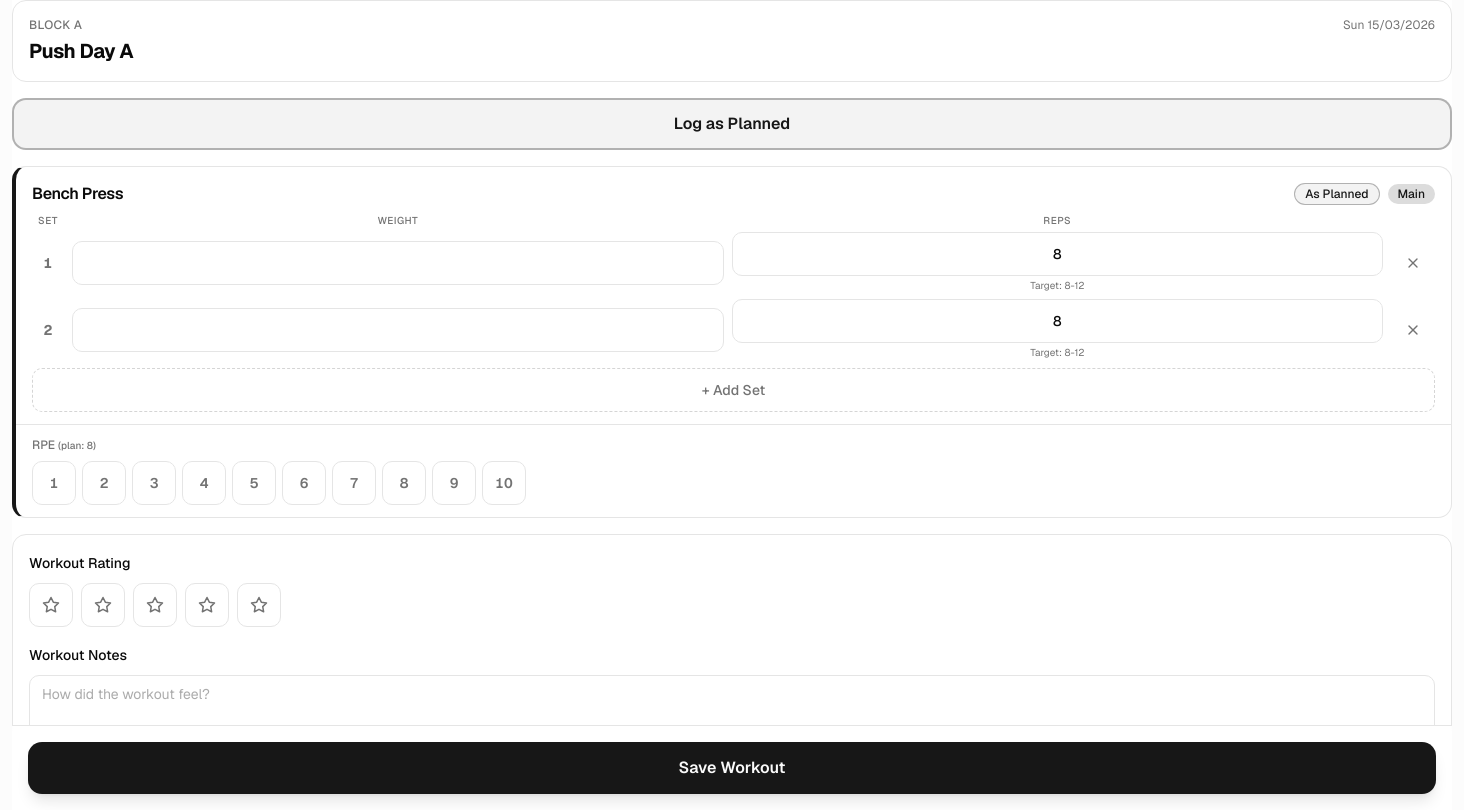
Per-exercise "As Planned" button — resistance › AC27: null weight stays empty, range reps use lower bound
// Modify something first
Clear the field with test id "reps-input-0-0" at [1057, 254], box [732,232,1383,276]
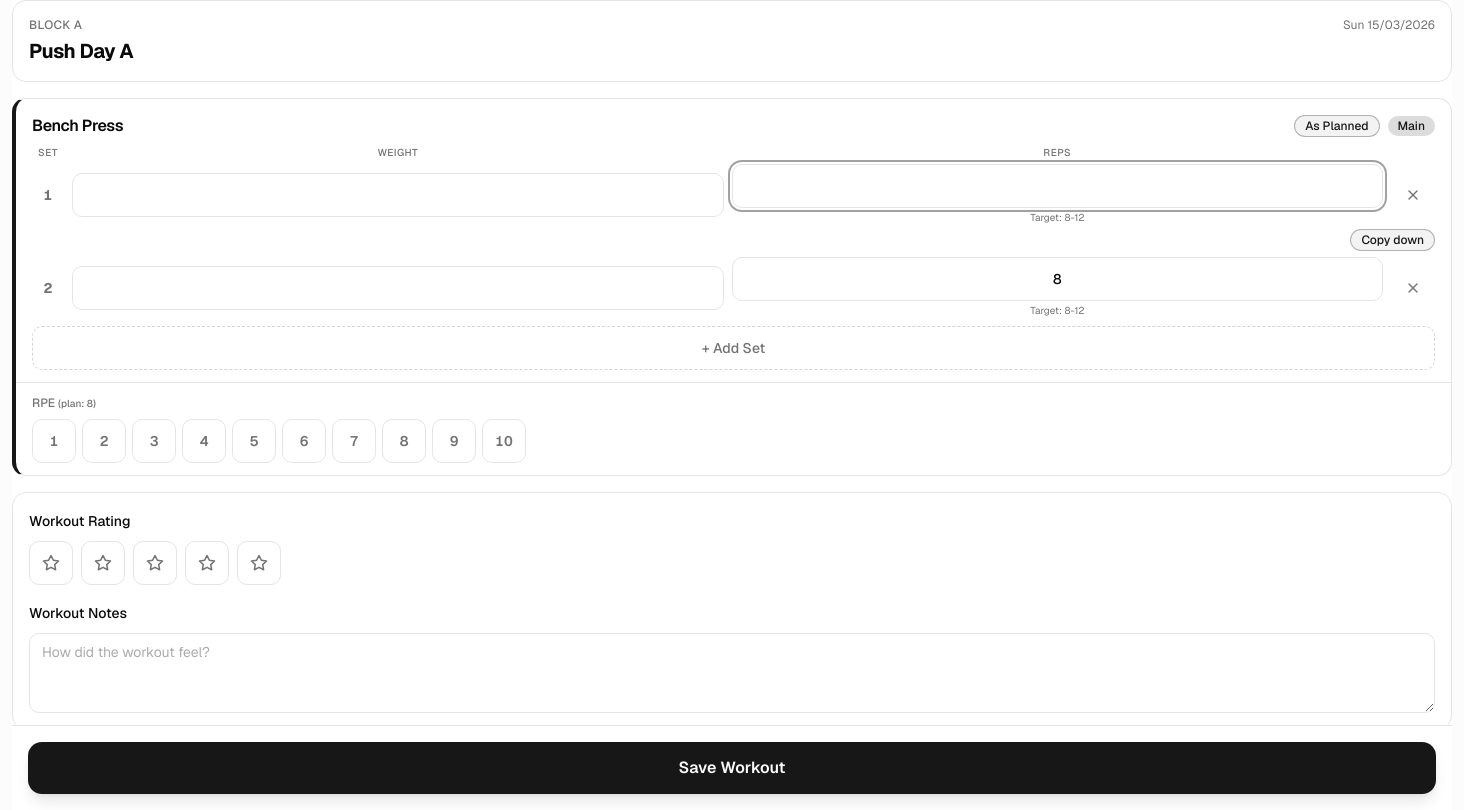
Type "15" into the field with test id "reps-input-0-0" at [1057, 186], box [732,164,1383,208]
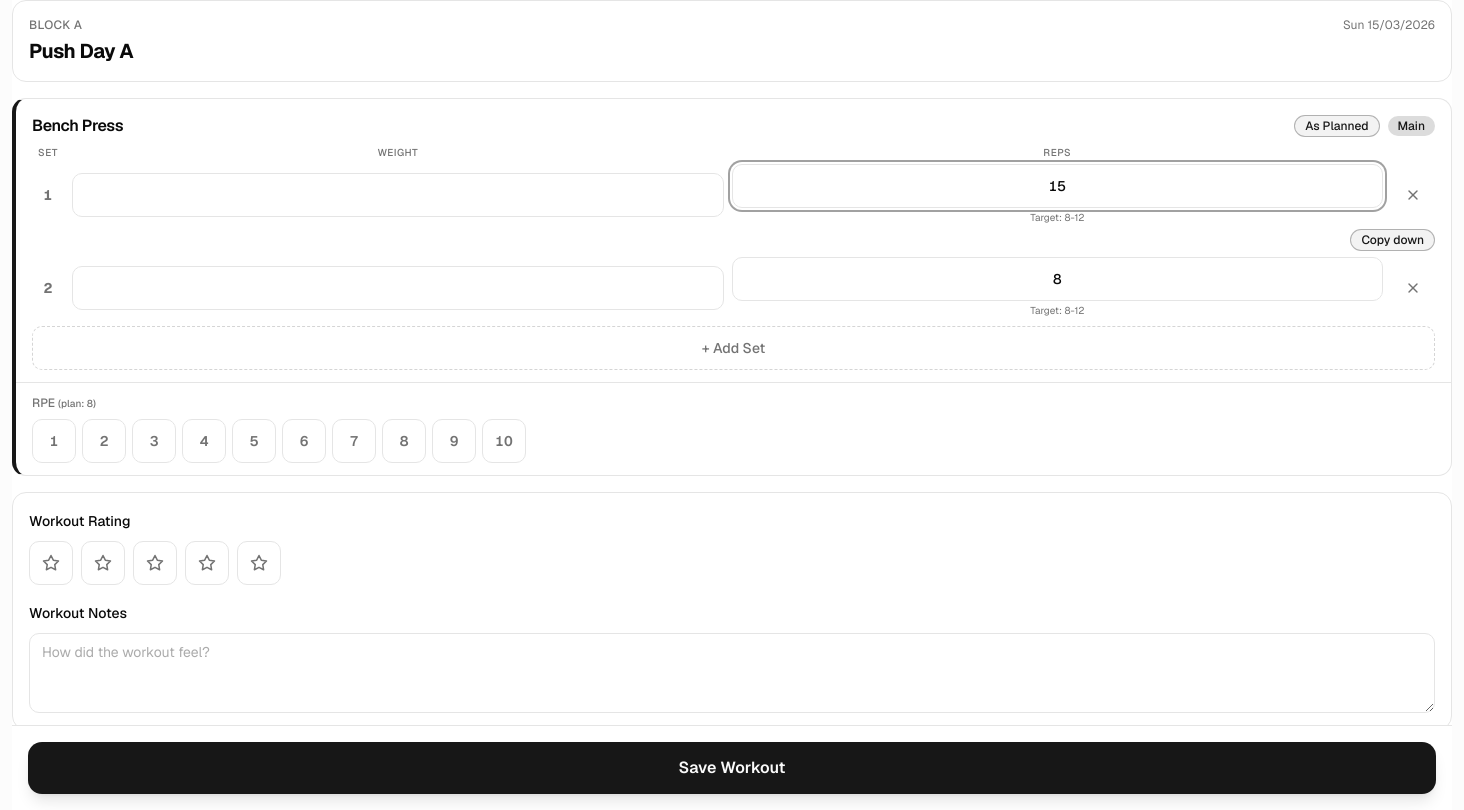
// Tap "As Planned"
Click the button with test id "as-planned-btn-0" at [1337, 126], box [1294,115,1380,137]
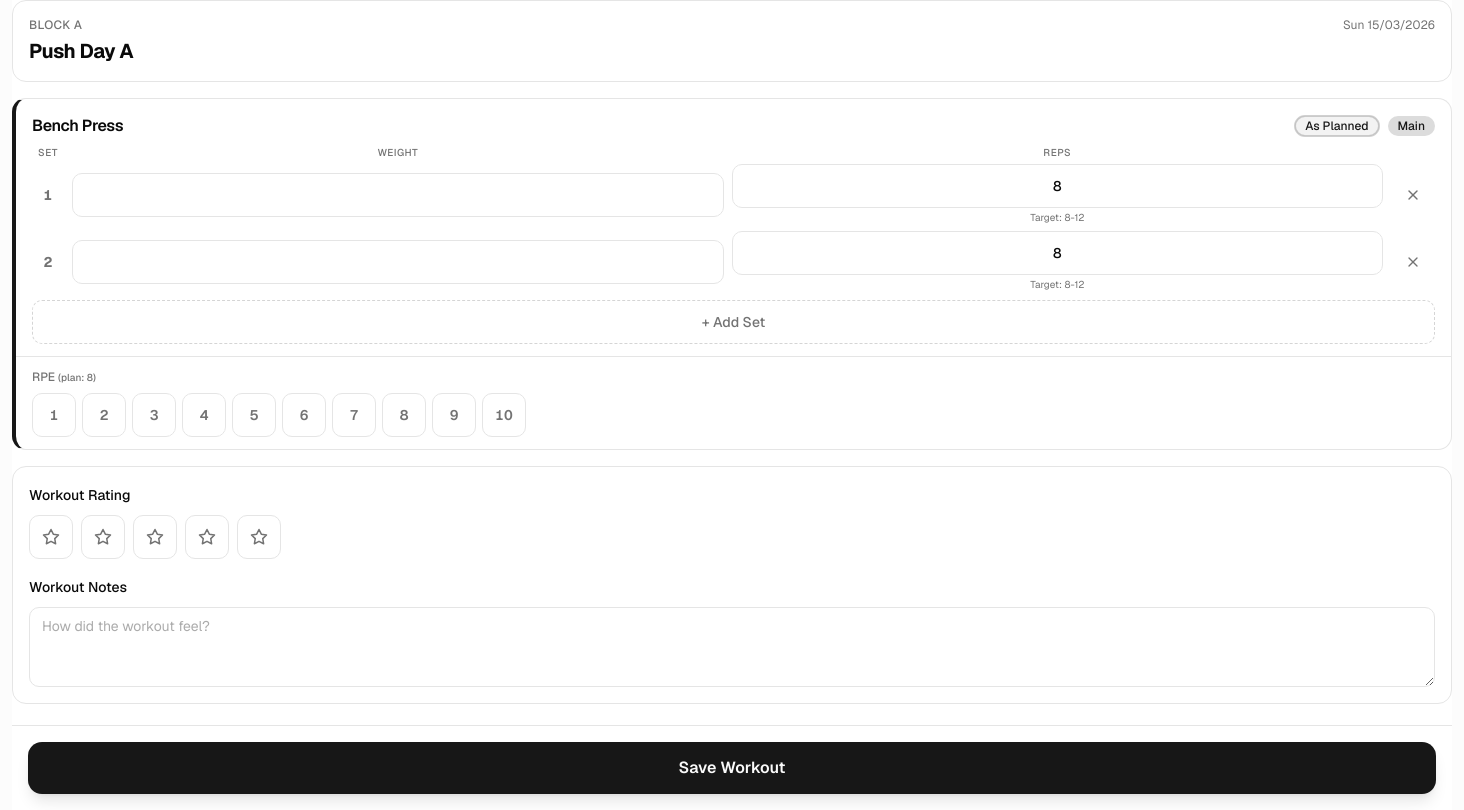
Expected: the field with test id "weight-input-0-0" is empty, [72,172,724,216]
Now the field with test id "reps-input-0-0" holds "8", box [732,164,1383,208]
